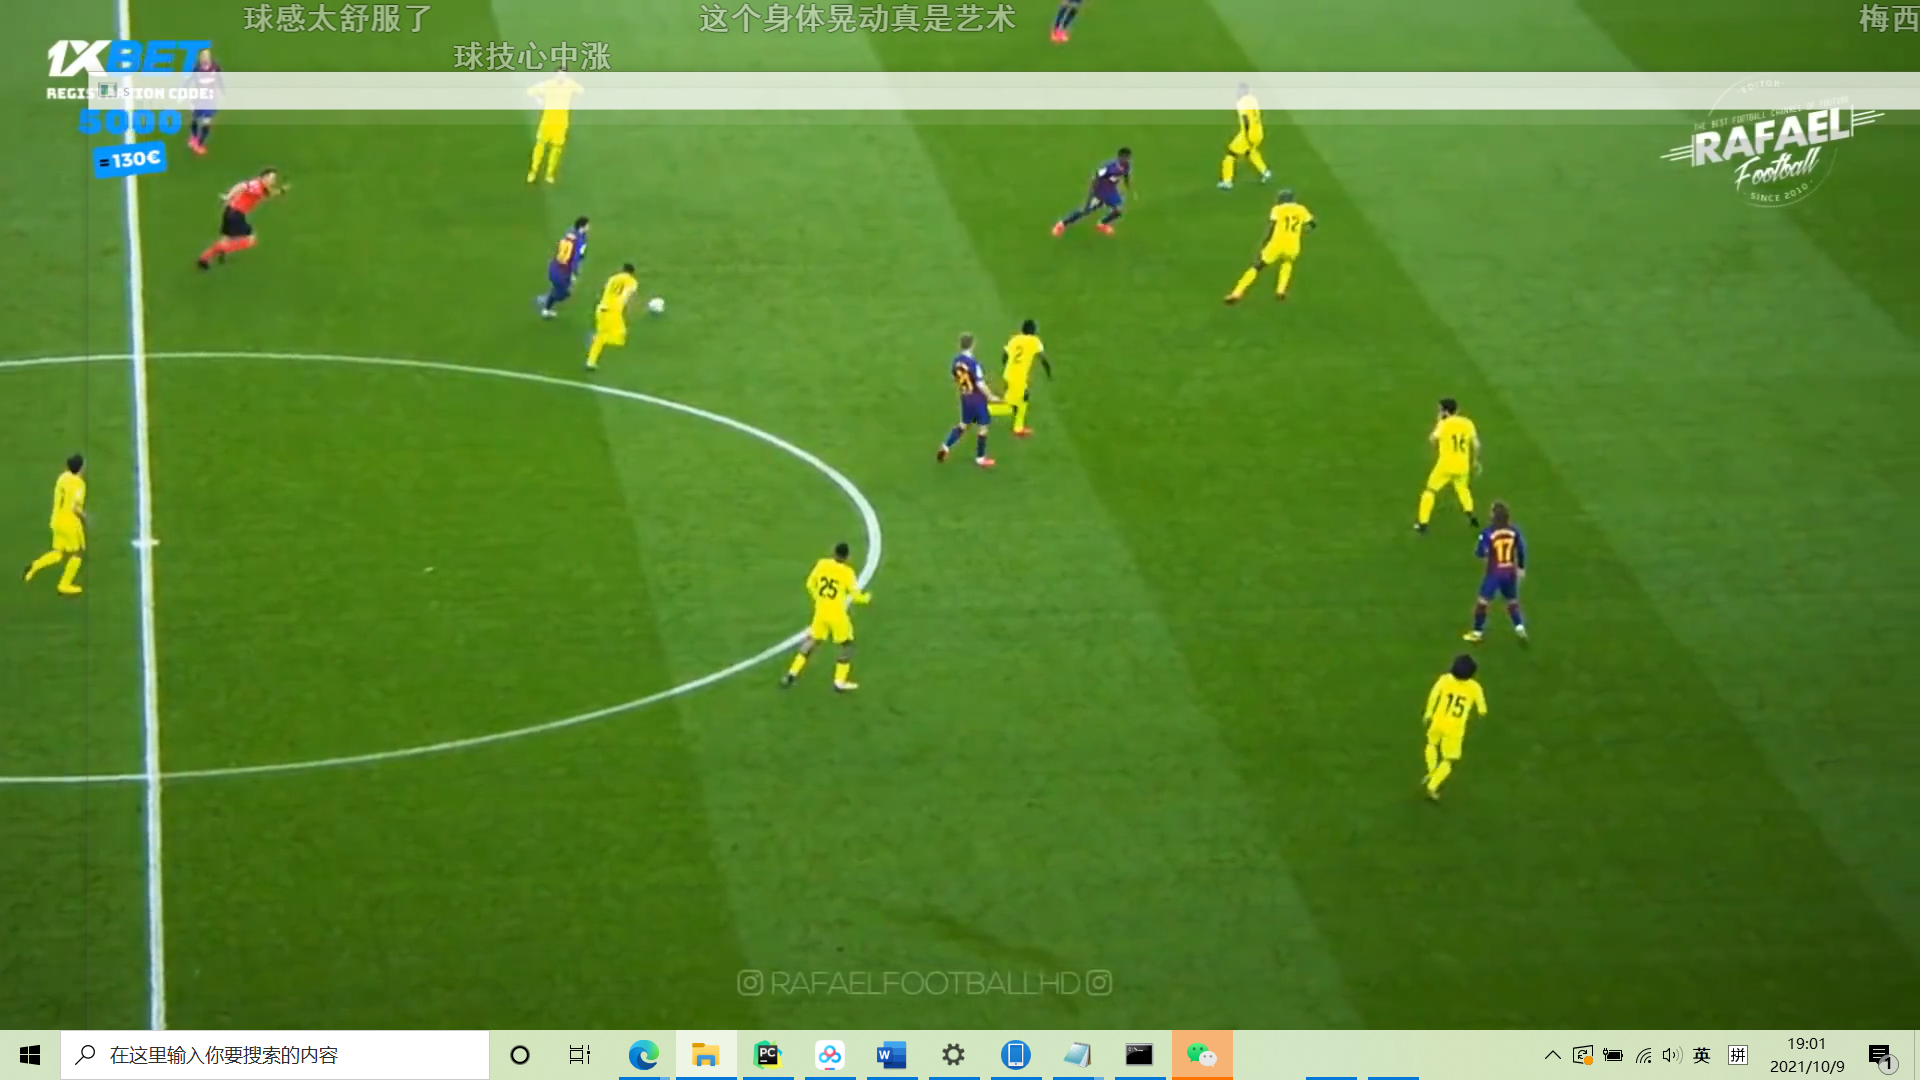ft: (647, 295, 667, 316)
